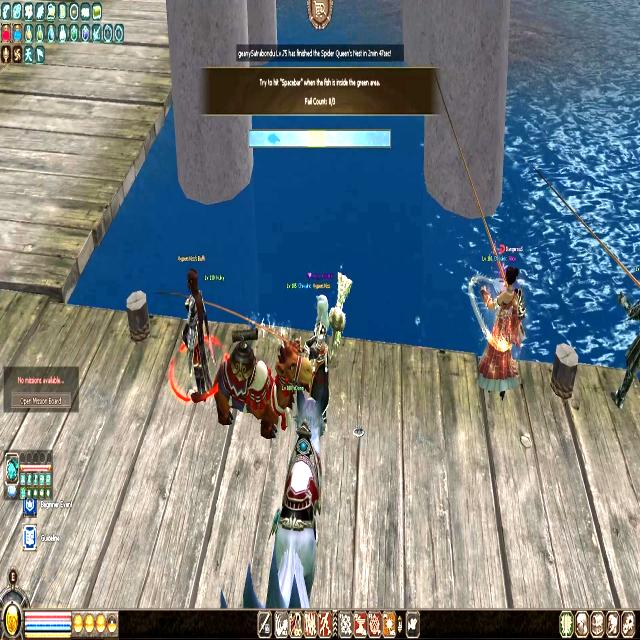fishes: (266, 131, 280, 145)
